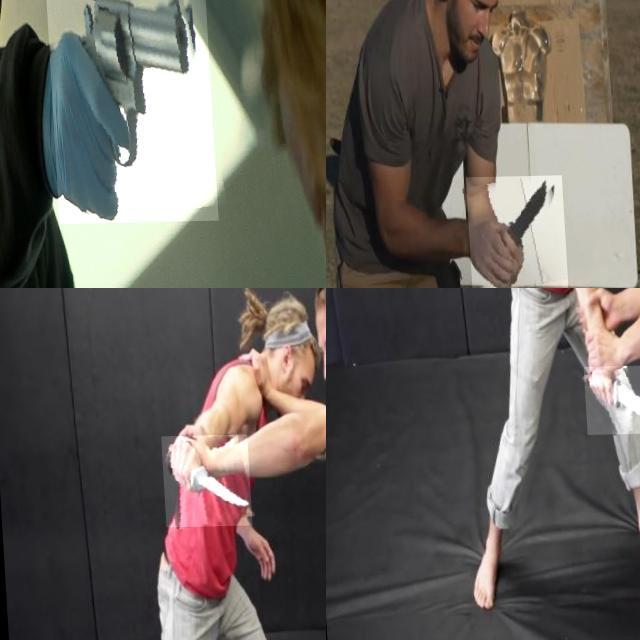-: (460, 177, 561, 288), (160, 436, 250, 528), (579, 367, 640, 436)
gun-knife-thesis - v11 Yolov5 augmented: (40, 0, 211, 225)
